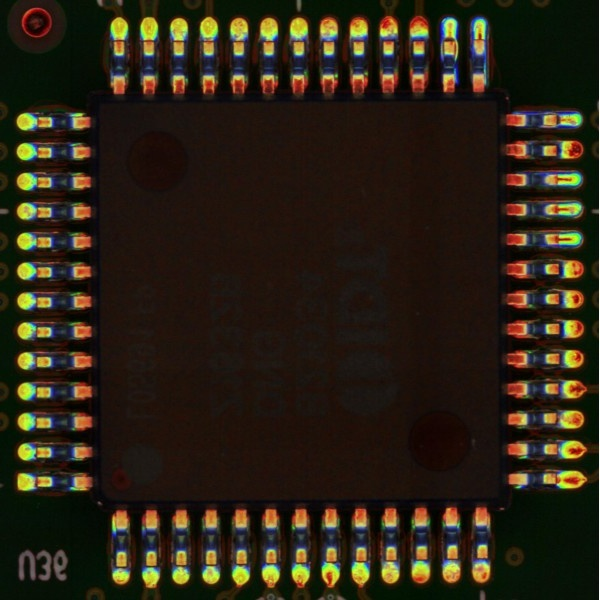Bad_podu: (550, 236, 573, 245), (548, 176, 572, 184), (548, 206, 571, 214), (549, 117, 571, 124), (476, 32, 485, 47), (445, 29, 454, 43)
Bad_qiaojiao: (454, 40, 458, 64), (440, 41, 444, 64)
